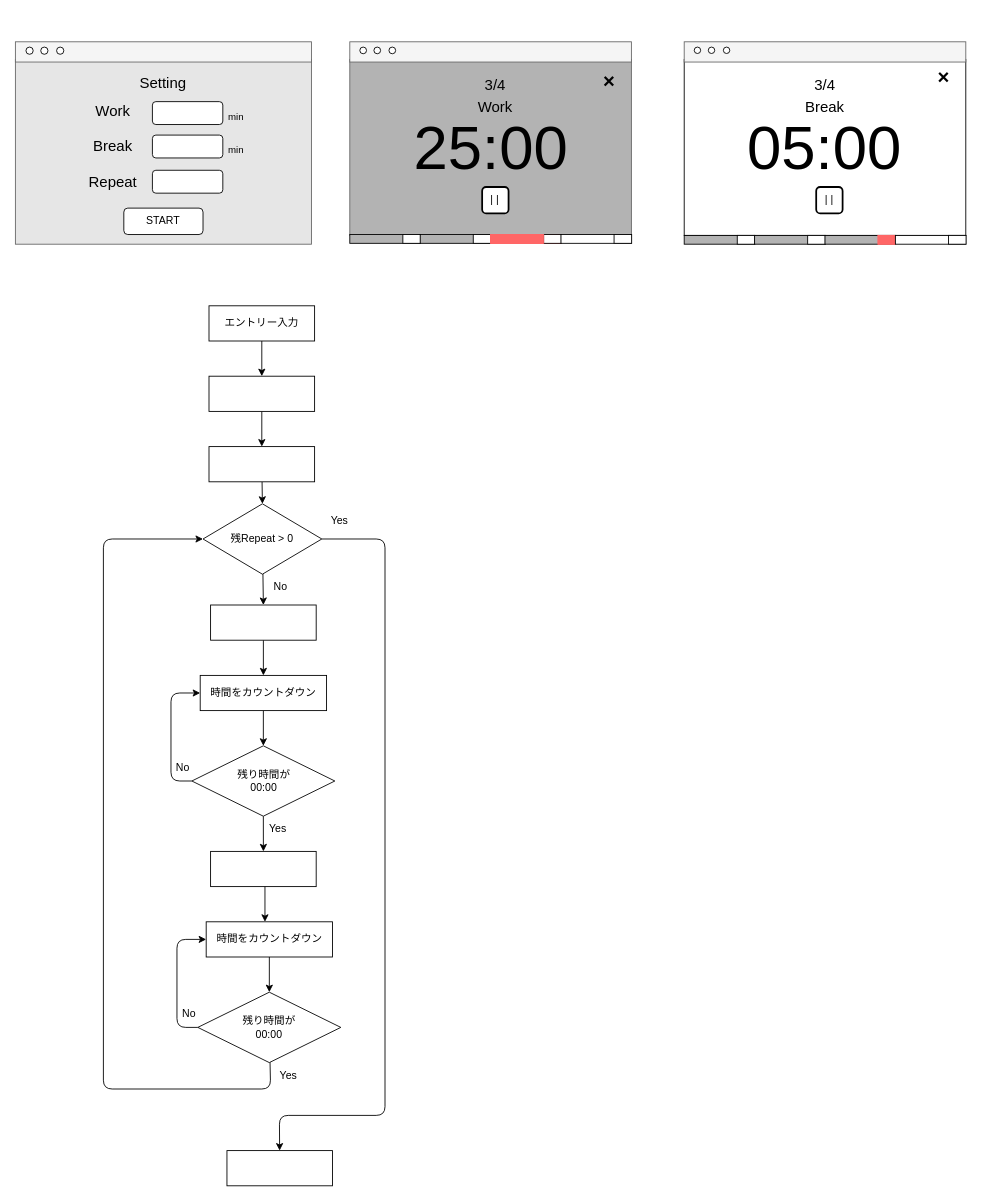
Some shapes in this 990 by 1201 pixel diagram are drawn without their labels. Here are the shapes that lost their labels. From the top down, the box of each, then its label:
(208, 375, 315, 411): startボタンクリック
(208, 446, 315, 482): 入力値の保持
(210, 604, 316, 640): Work画面の表示
(210, 851, 316, 887): Break画面の表示
(226, 1150, 333, 1186): 終了
